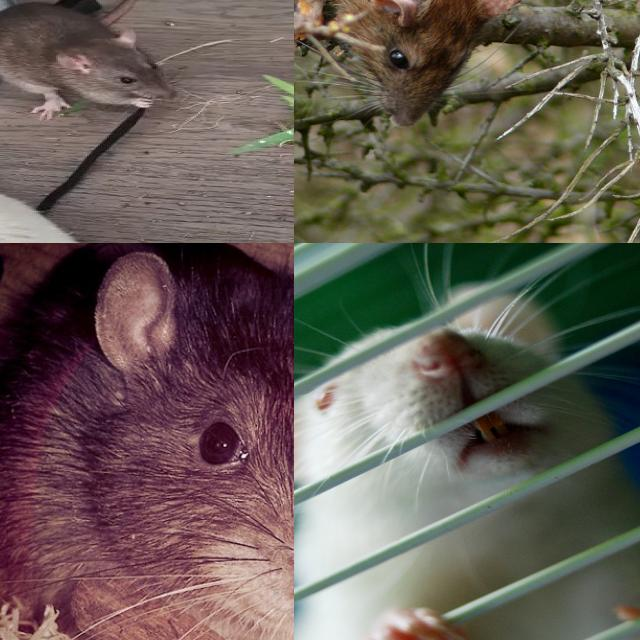rat: (294, 286, 640, 640), (0, 243, 294, 635), (294, 0, 525, 121), (0, 0, 180, 120)
